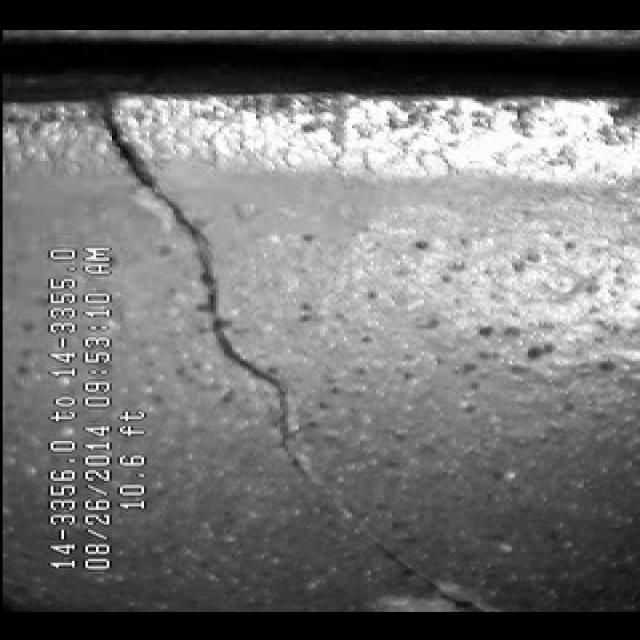Crack: (156, 144, 356, 573)
